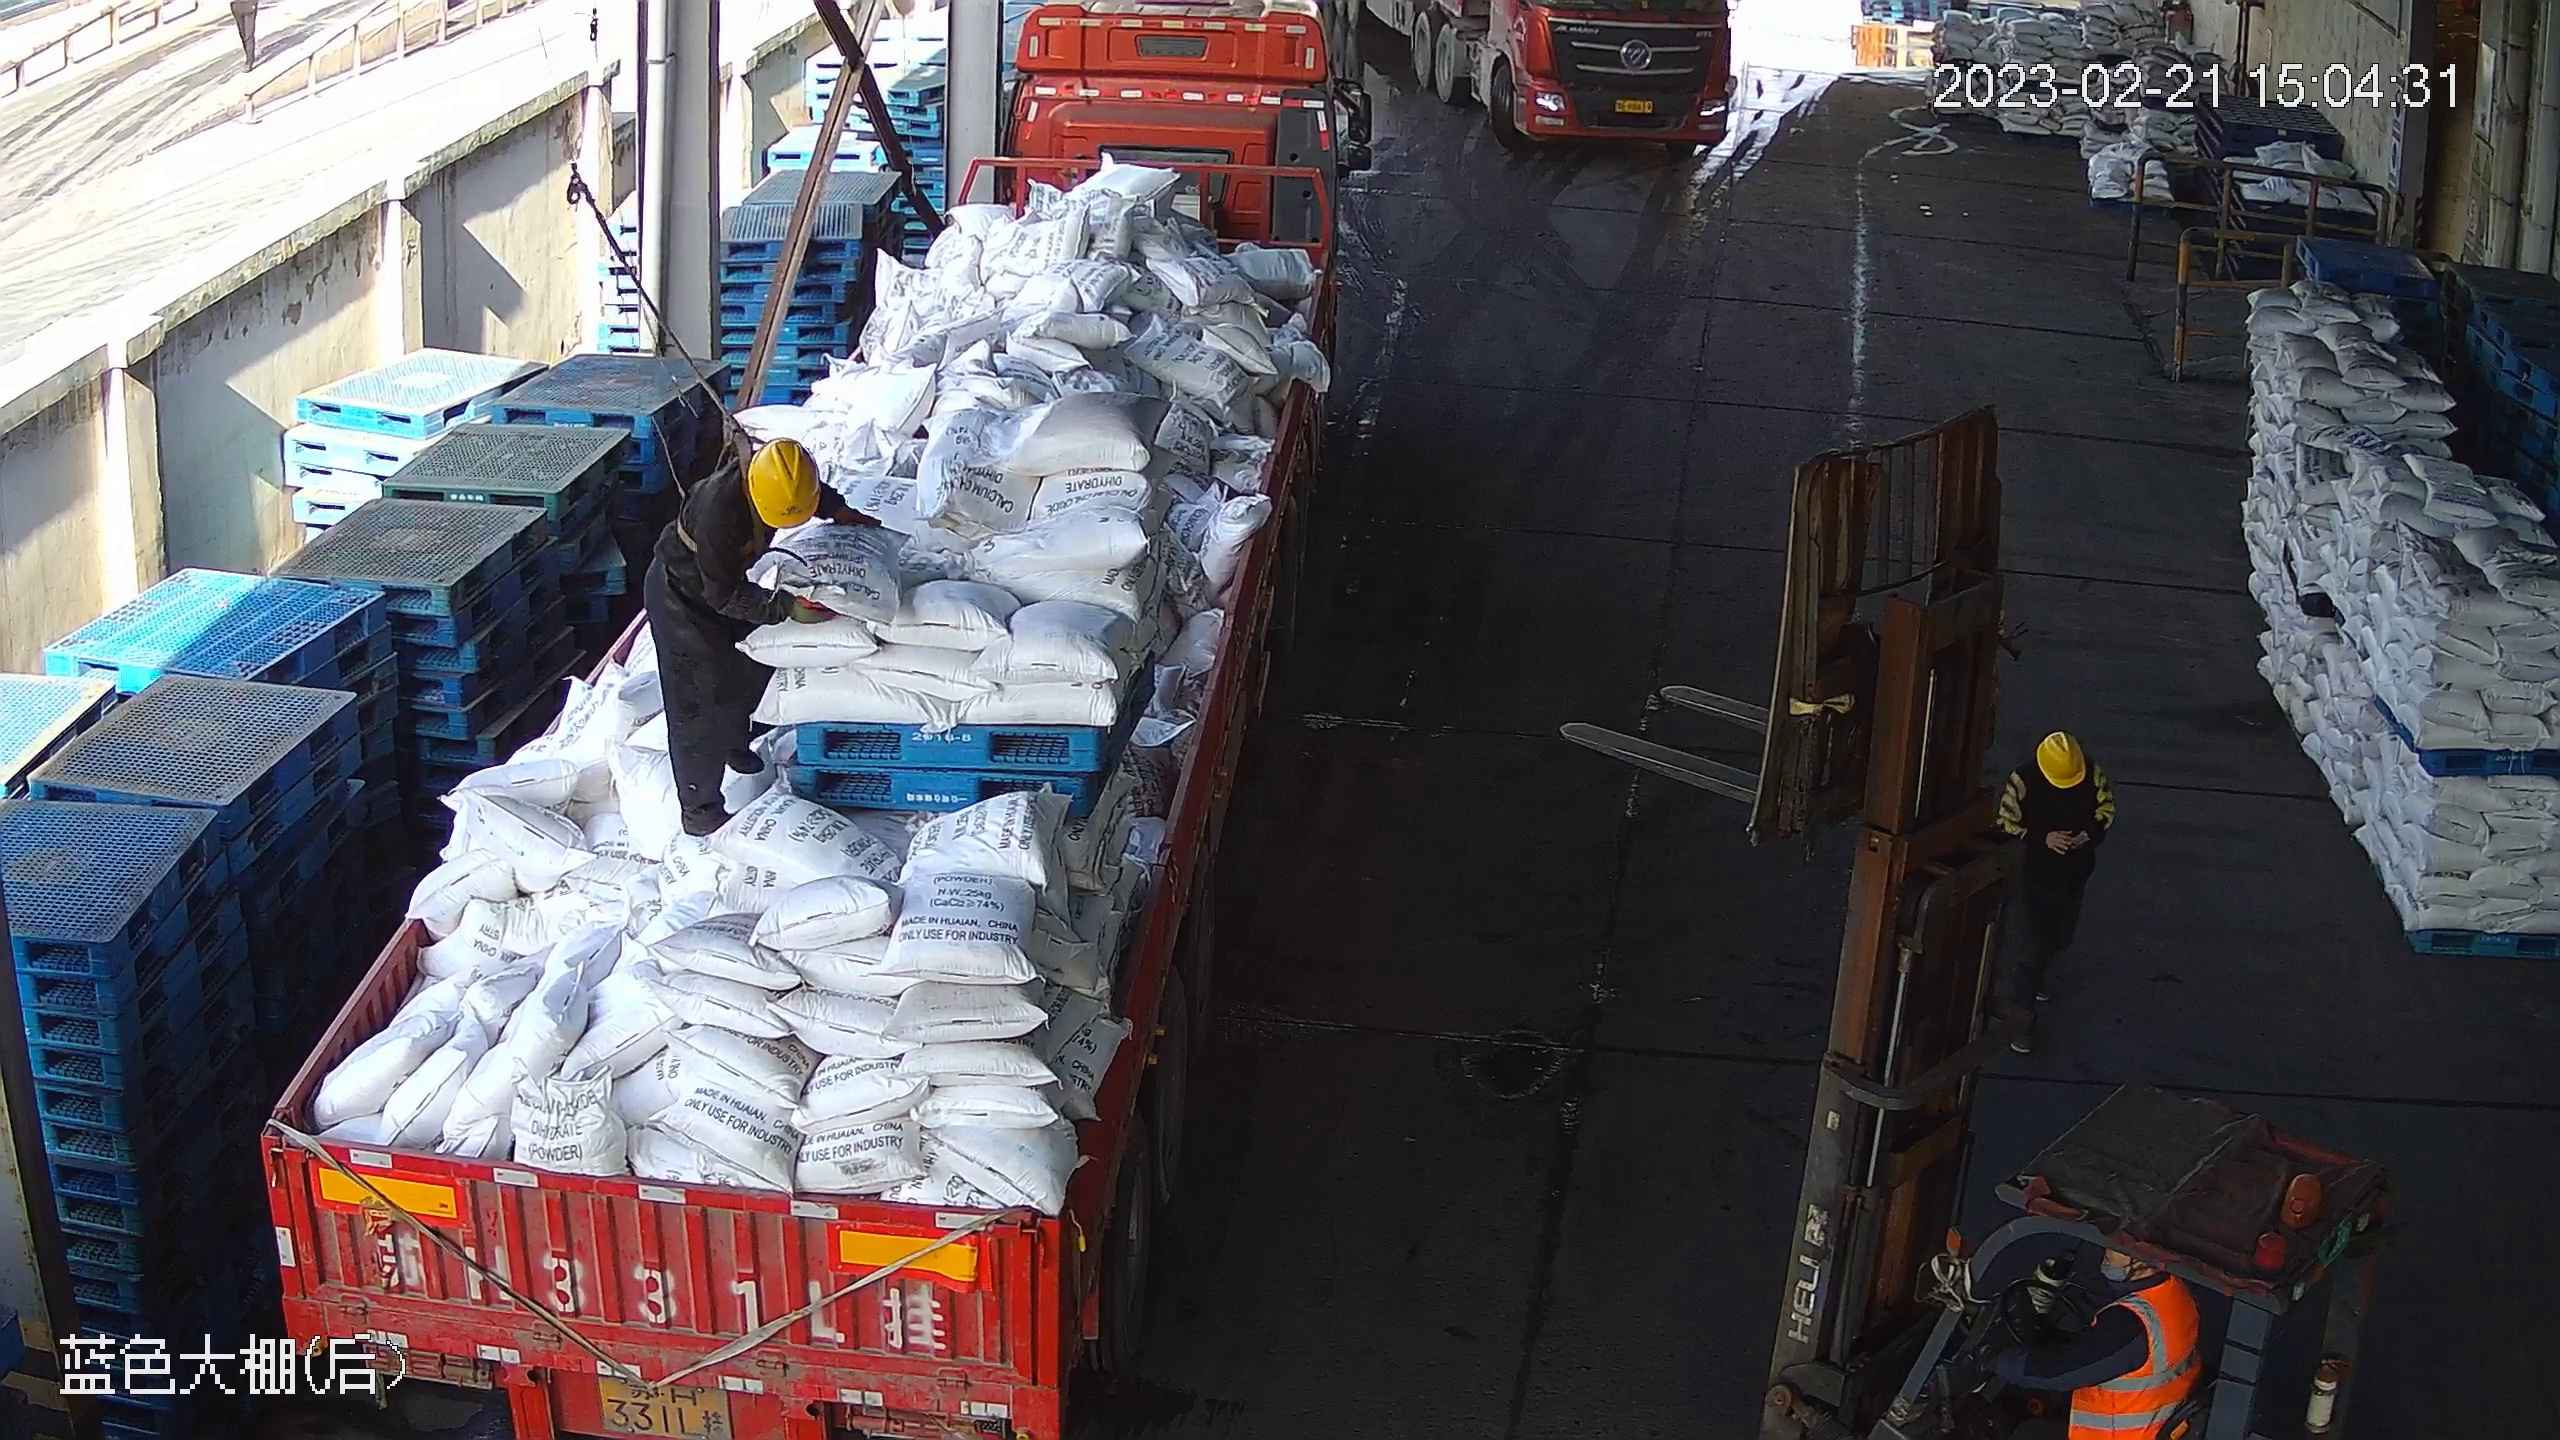belt: (720, 415, 777, 560)
head: (645, 434, 877, 619), (2007, 1234, 2213, 1440), (1999, 728, 2113, 858)
helmet: (742, 437, 823, 529), (2035, 732, 2088, 787)
people: (641, 435, 880, 838), (1993, 728, 2116, 1064)
truck: (262, 8, 1376, 1415), (1396, 3, 1741, 156)
